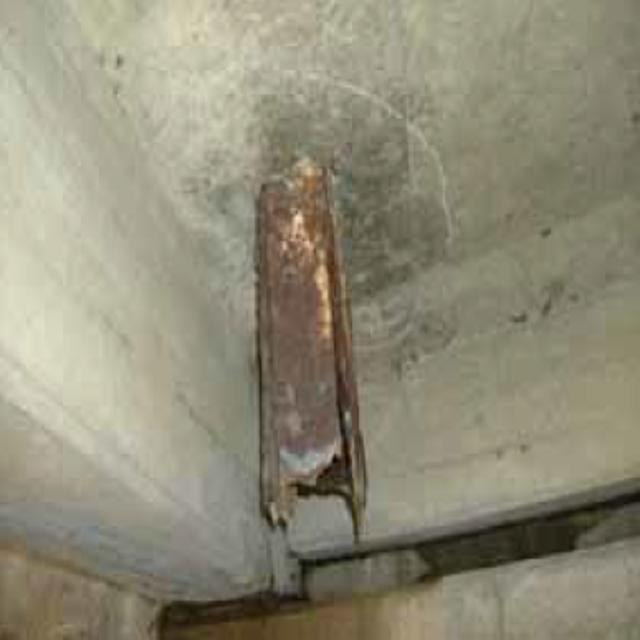corrosion: (244, 170, 407, 557)
